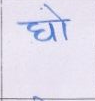o_matra: (55, 9, 69, 39)
